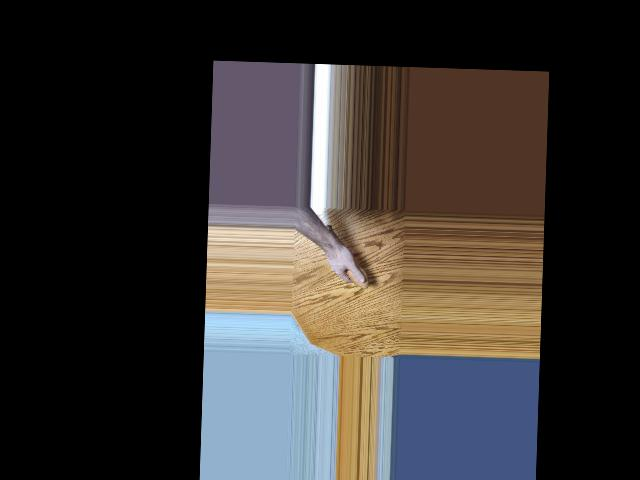sweet_potato: (319, 221, 371, 289)
